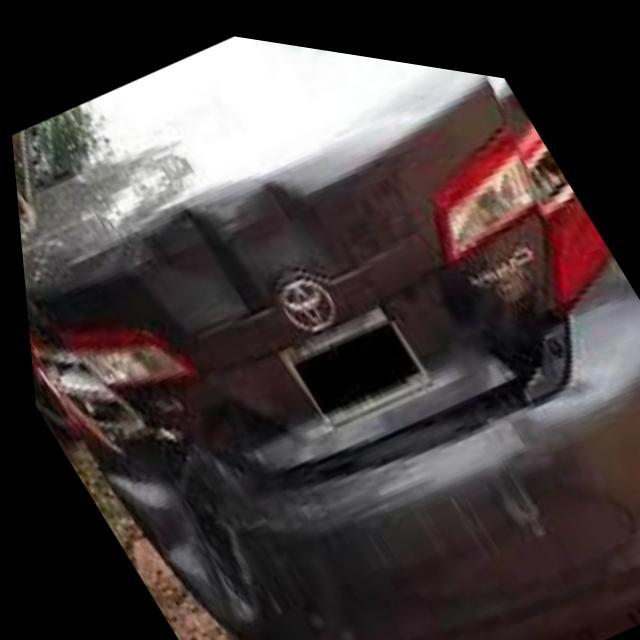dent: (84, 384, 344, 640), (137, 157, 344, 326)
dislocated part: (224, 202, 585, 507)
